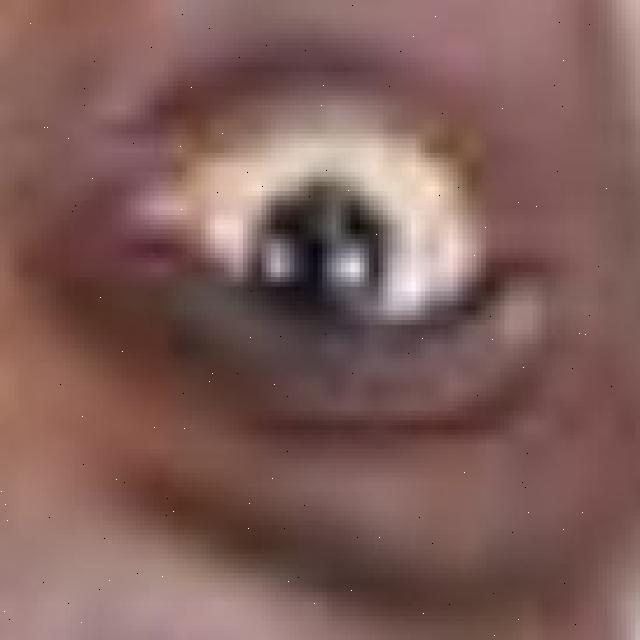Normal: (243, 178, 393, 334)
